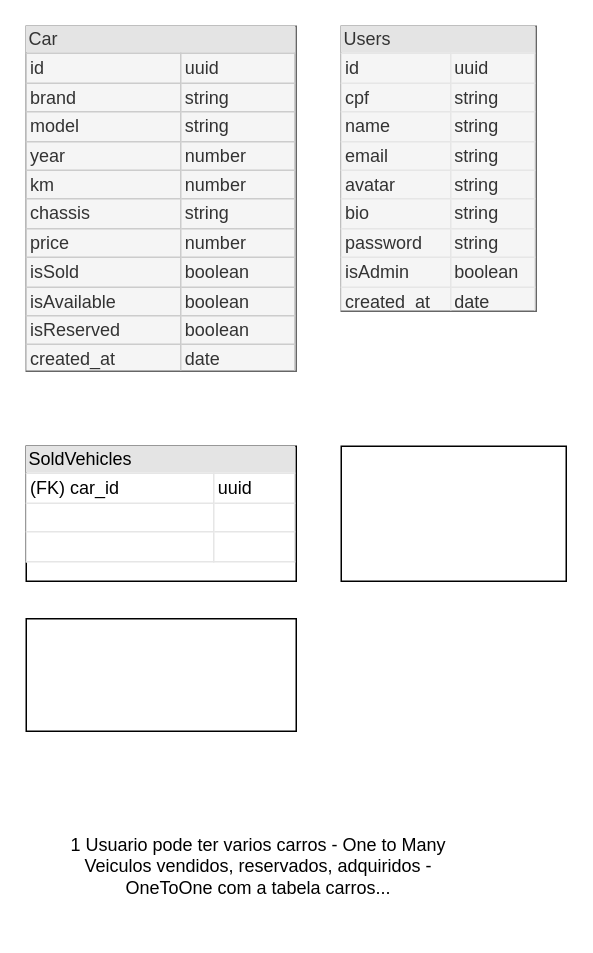
Some shapes in this 593 by 953 pixel diagram are drawn without their labels. Here are the shapes that lost their labels. From the top down, the centre of each, then its label:
At (x=453, y=513): "AcquiredVehicles (FK) car_id uuid".
At (x=160, y=674): "ReservedVehicles (FK) car_id uuid".
